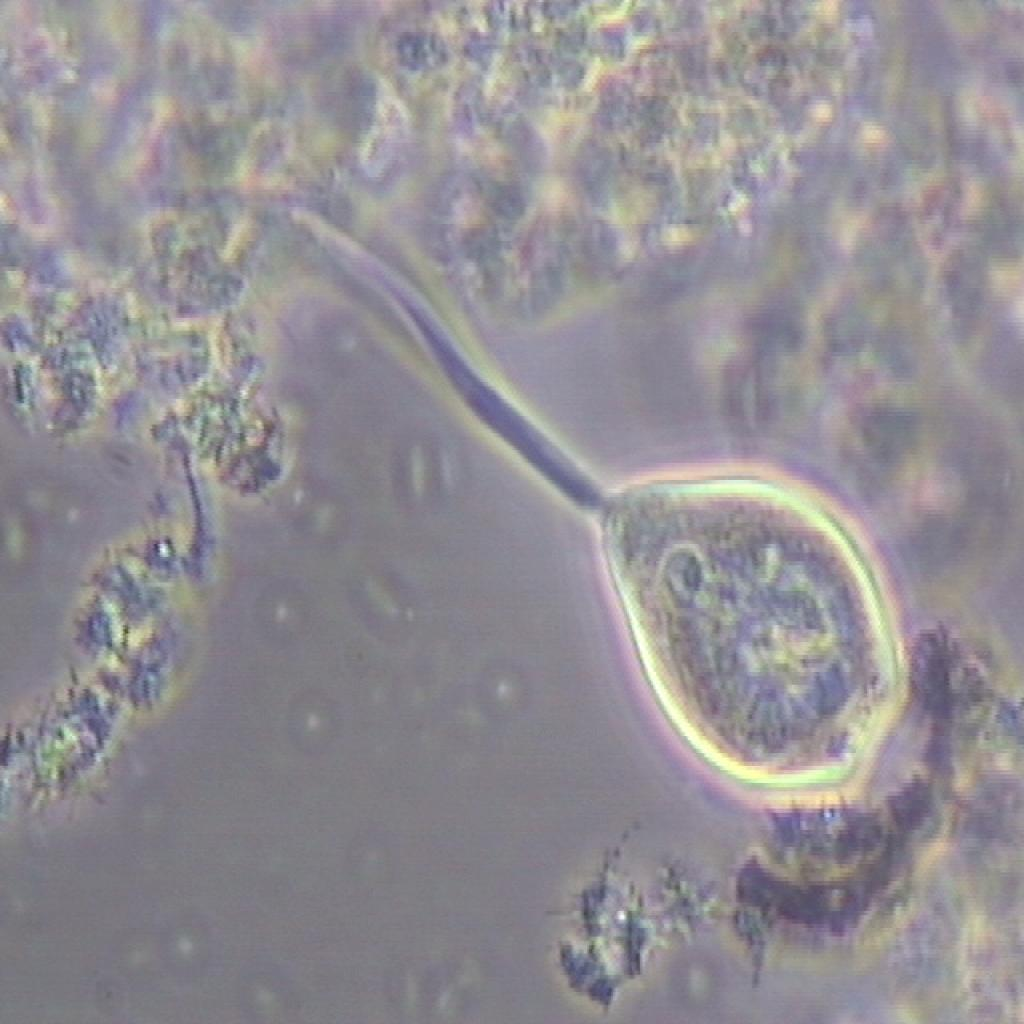Vorticella: (284, 235, 934, 834)
